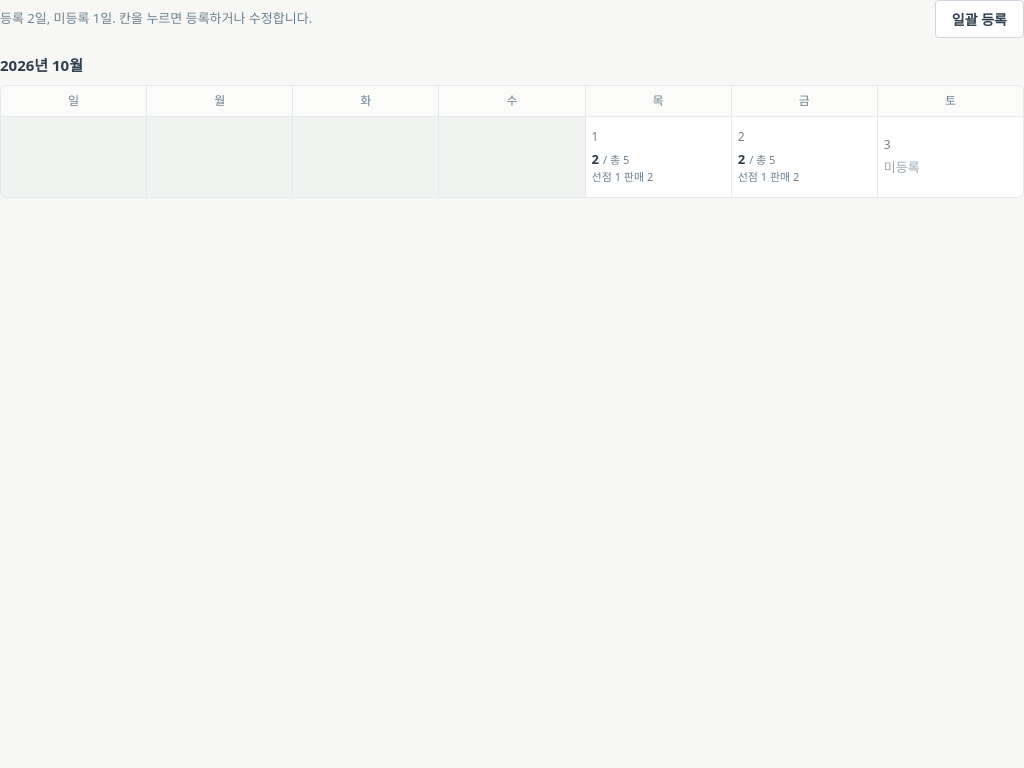
Test: H4 재고 달력 › 누락 칸은 등록 폼. 직전 날짜 값을 미리 채우고 화면 검사 뒤 INV-01 본문
Click the button with aria-label "2026-10-03": (950, 156) 878,116 -> 1023,196
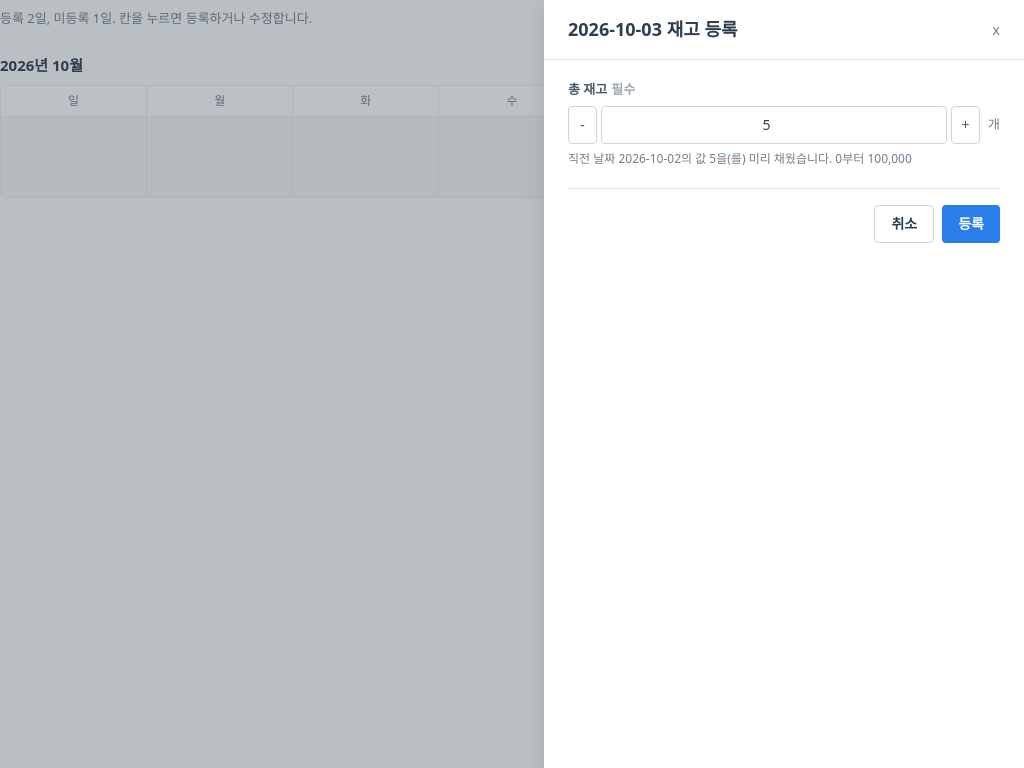
Expected: the dialog "2026-10-03 재고 등록" is shown, 544,0 -> 1023,767
Expected: the number field labelled "총 재고" holds "5"
Expected: the text "직전 날짜 2026-10-02의 값 5을(를) 미리 채웠습니다." is shown, 568,150 -> 912,166
Clear the number field labelled "총 재고": (774, 124) 601,106 -> 947,144
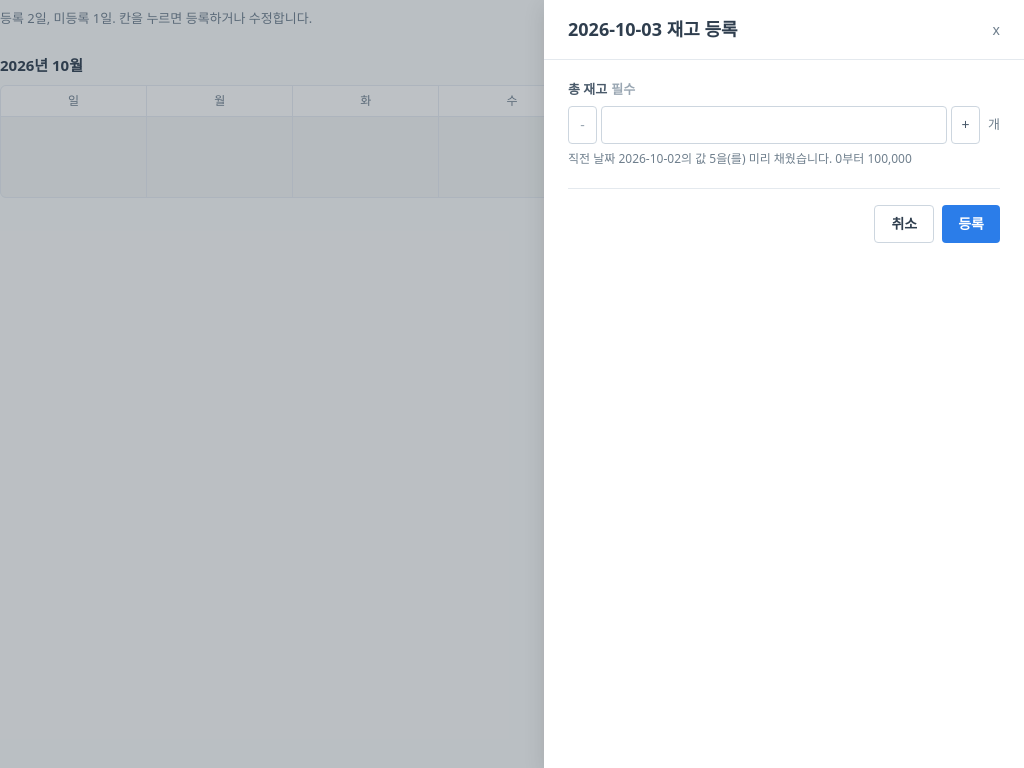
Click the button "등록": (971, 224) 942,204 -> 1000,242
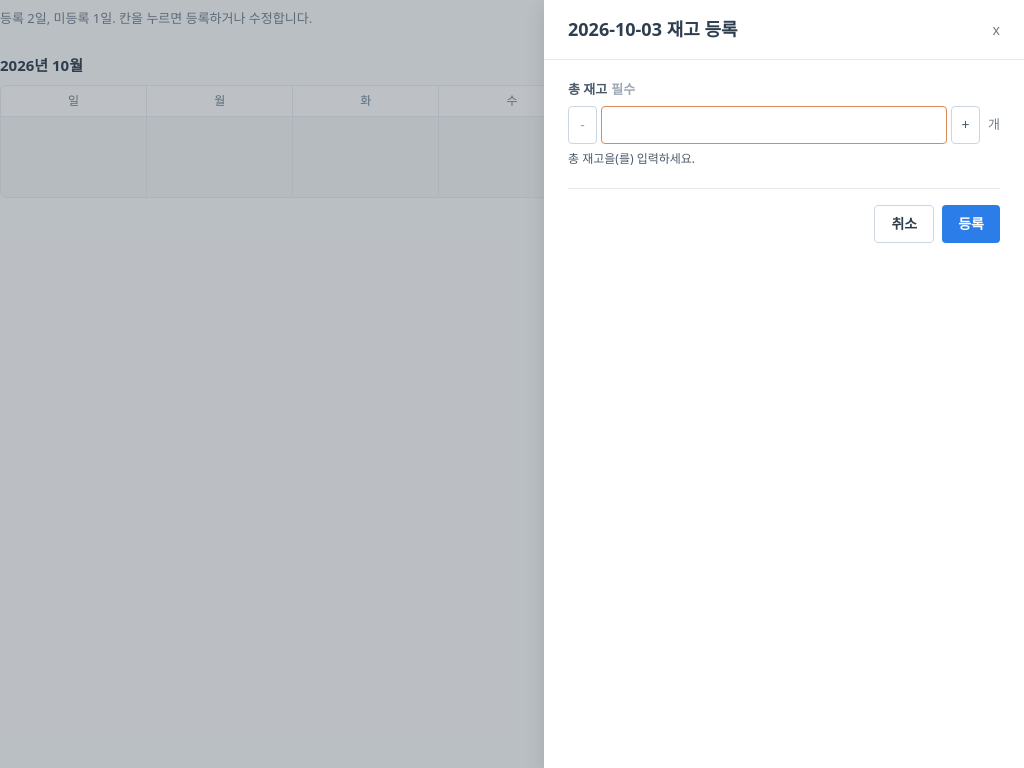
Expected: the text "총 재고을(를) 입력하세요." is shown, 568,150 -> 695,166
In the number field labelled "총 재고": (774, 124) 601,106 -> 947,144, type "7"
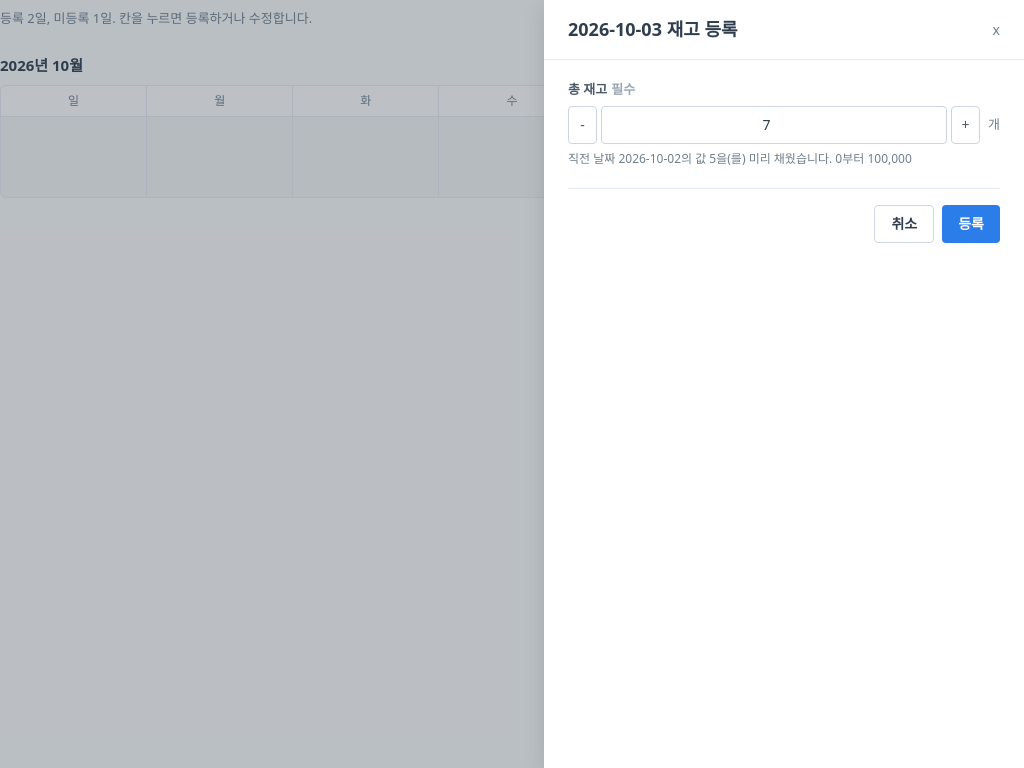
Click the button "등록": (971, 224) 942,204 -> 1000,242
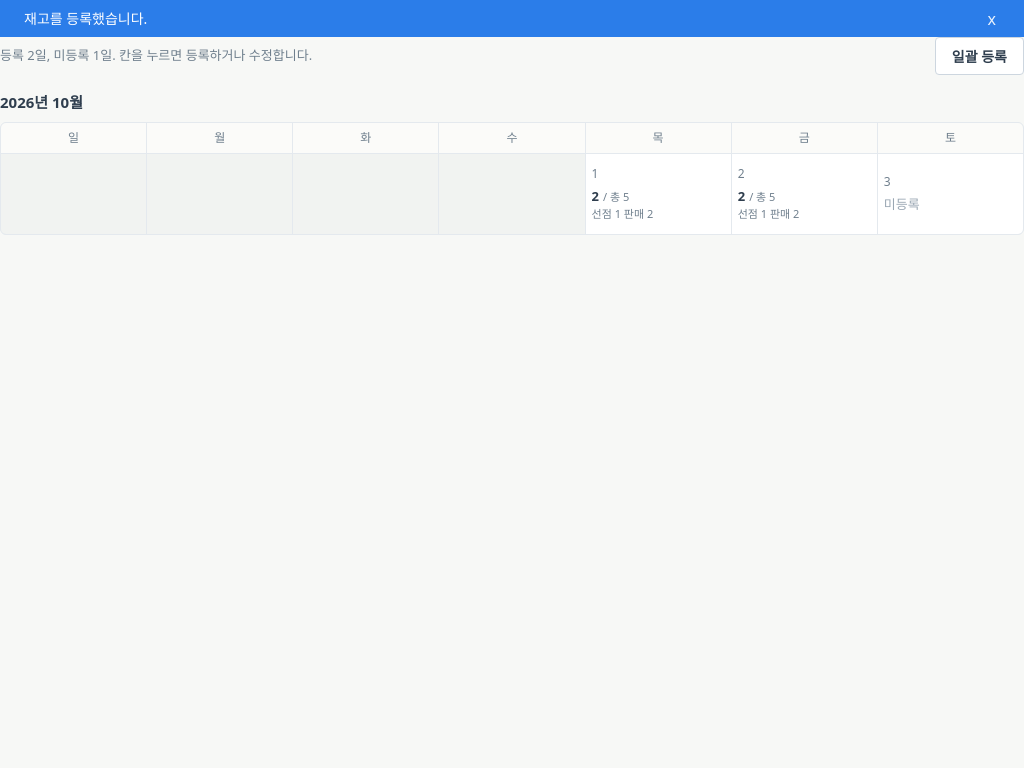
Expected: the text "재고를 등록했습니다." is shown, 24,9 -> 147,28
Expected: the dialog is gone
